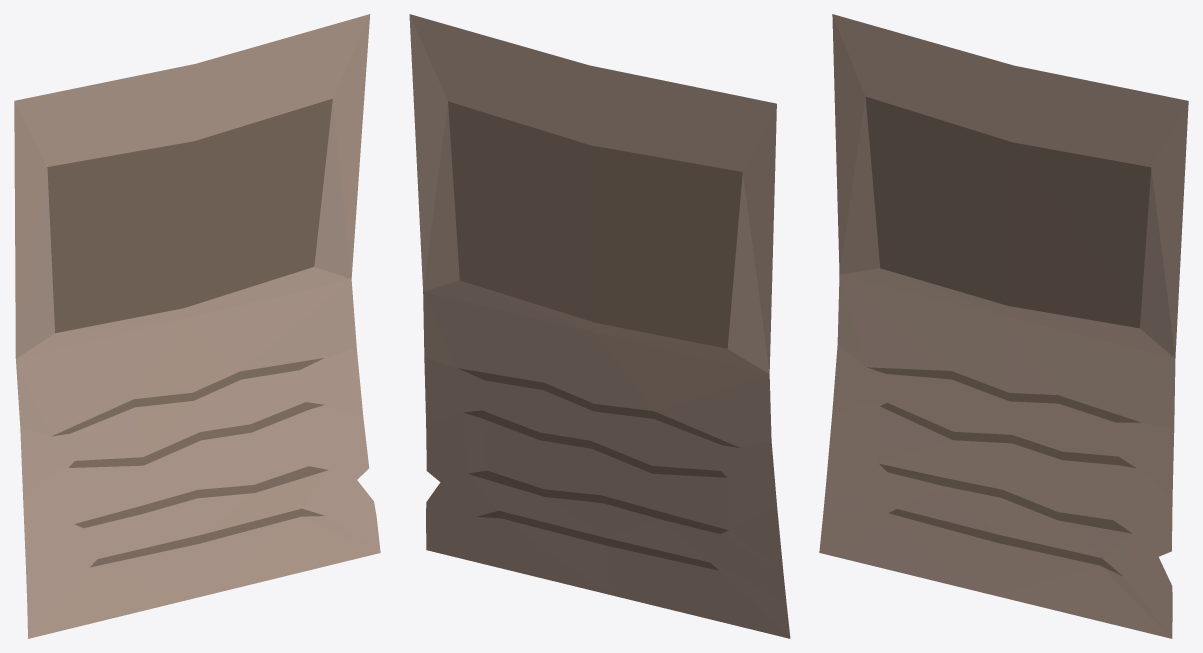
Rendered from SFHW_Paper_013.fbx.
3 views of the same model, side by side, from view 1: azimuth 30°, elevation 25°; view 2: azimuth 150°, elevation 25°; view 3: azimuth 330°, elevation 25° (orthographic). The views are drawn at different scales.
Parts seen in each view (by area): view 1: SFHW_Paper_013; view 2: SFHW_Paper_013; view 3: SFHW_Paper_013.
Boxes of the visible parts, x1=… form: SFHW_Paper_013: x1=14, y1=14, x2=380, y2=638; SFHW_Paper_013: x1=409, y1=14, x2=790, y2=638; SFHW_Paper_013: x1=819, y1=14, x2=1188, y2=638.
Size of the model in its own units: 19.26 by 27.32 by 1.59.
